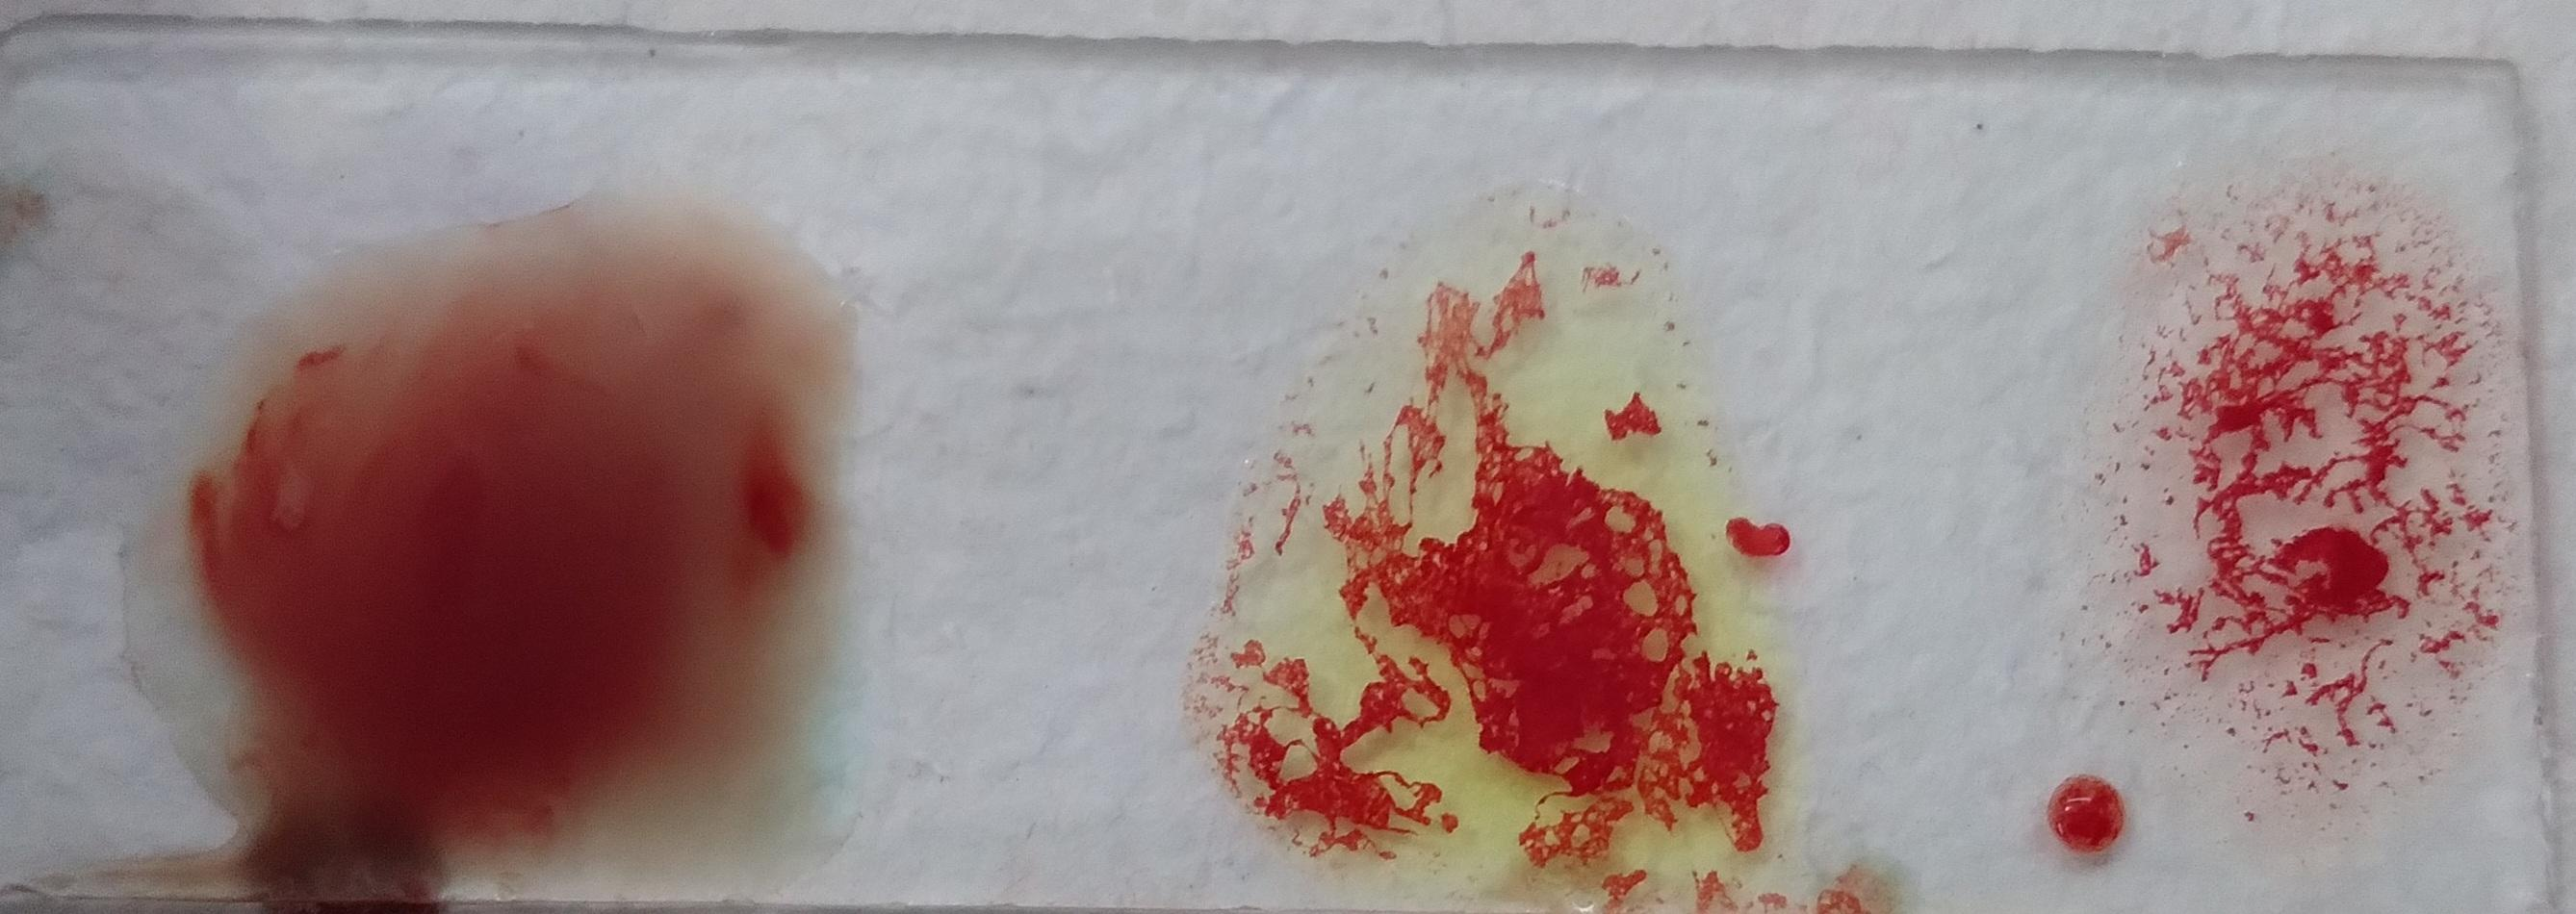B: (751, 16, 1396, 714)
D: (61, 57, 475, 750)
